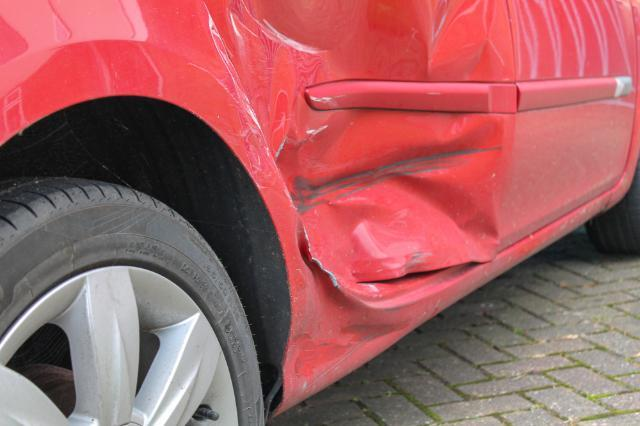dent: (209, 2, 523, 287), (291, 244, 404, 388)
